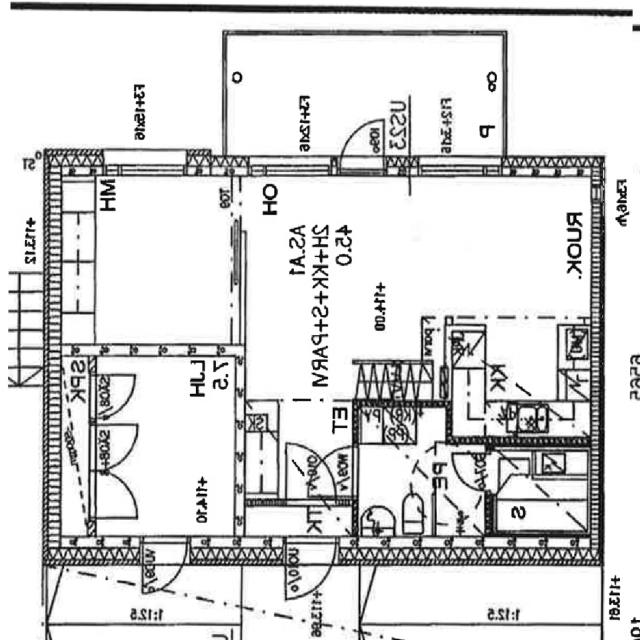door: (285, 538, 335, 621), (142, 538, 186, 615), (286, 444, 336, 508), (339, 108, 383, 176), (308, 447, 360, 496), (88, 425, 138, 473), (88, 473, 138, 520), (88, 376, 136, 420), (450, 453, 494, 491)
